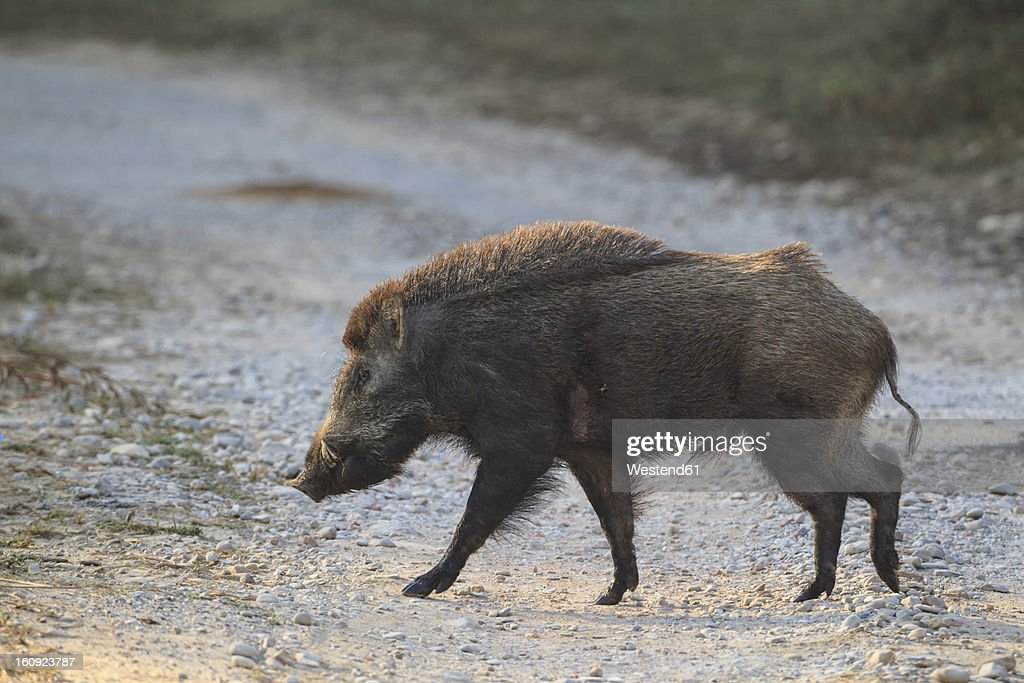wild boar: (279, 208, 939, 616)
